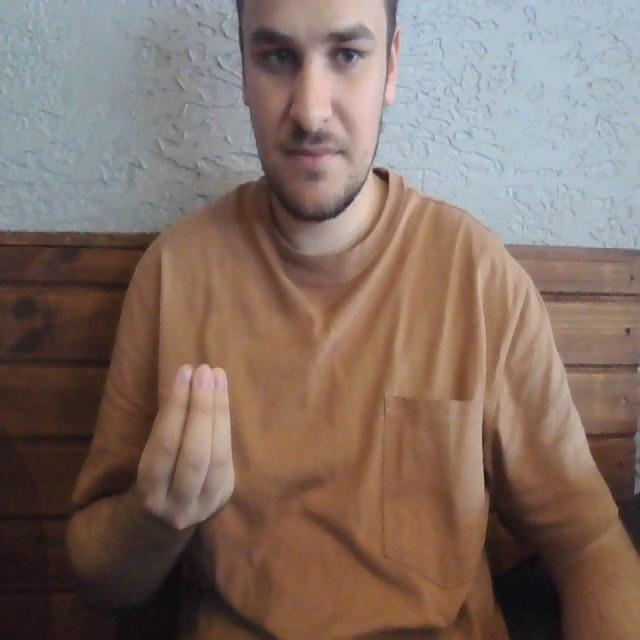iyi: (132, 360, 238, 538)
